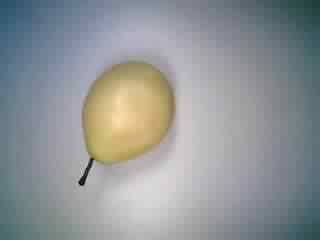pear: (62, 50, 182, 194)
